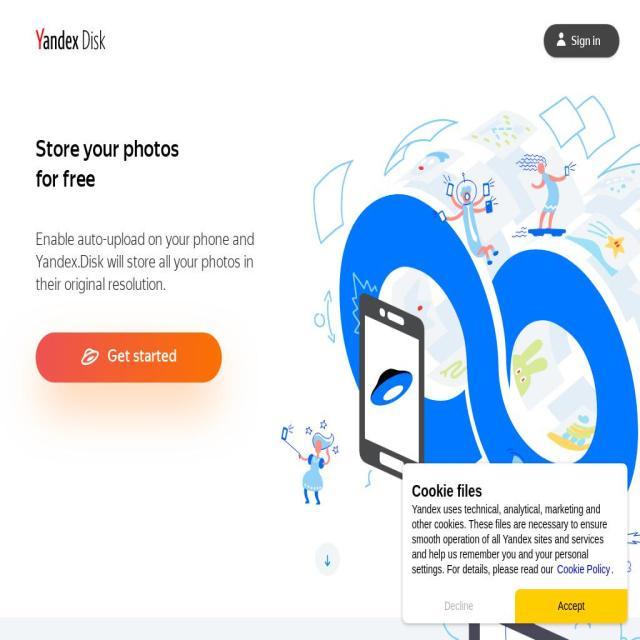button: (36, 332, 222, 382), (403, 589, 515, 623), (515, 589, 627, 623), (544, 24, 619, 58), (556, 561, 612, 577), (315, 542, 340, 576)
heading: (35, 135, 178, 163), (36, 165, 95, 193)
image: (280, 95, 640, 572), (315, 526, 640, 640), (36, 28, 106, 54), (324, 568, 330, 581), (324, 553, 330, 565)
text: (36, 228, 273, 296), (412, 502, 607, 576), (412, 480, 618, 502), (107, 346, 177, 366), (612, 562, 614, 576)
